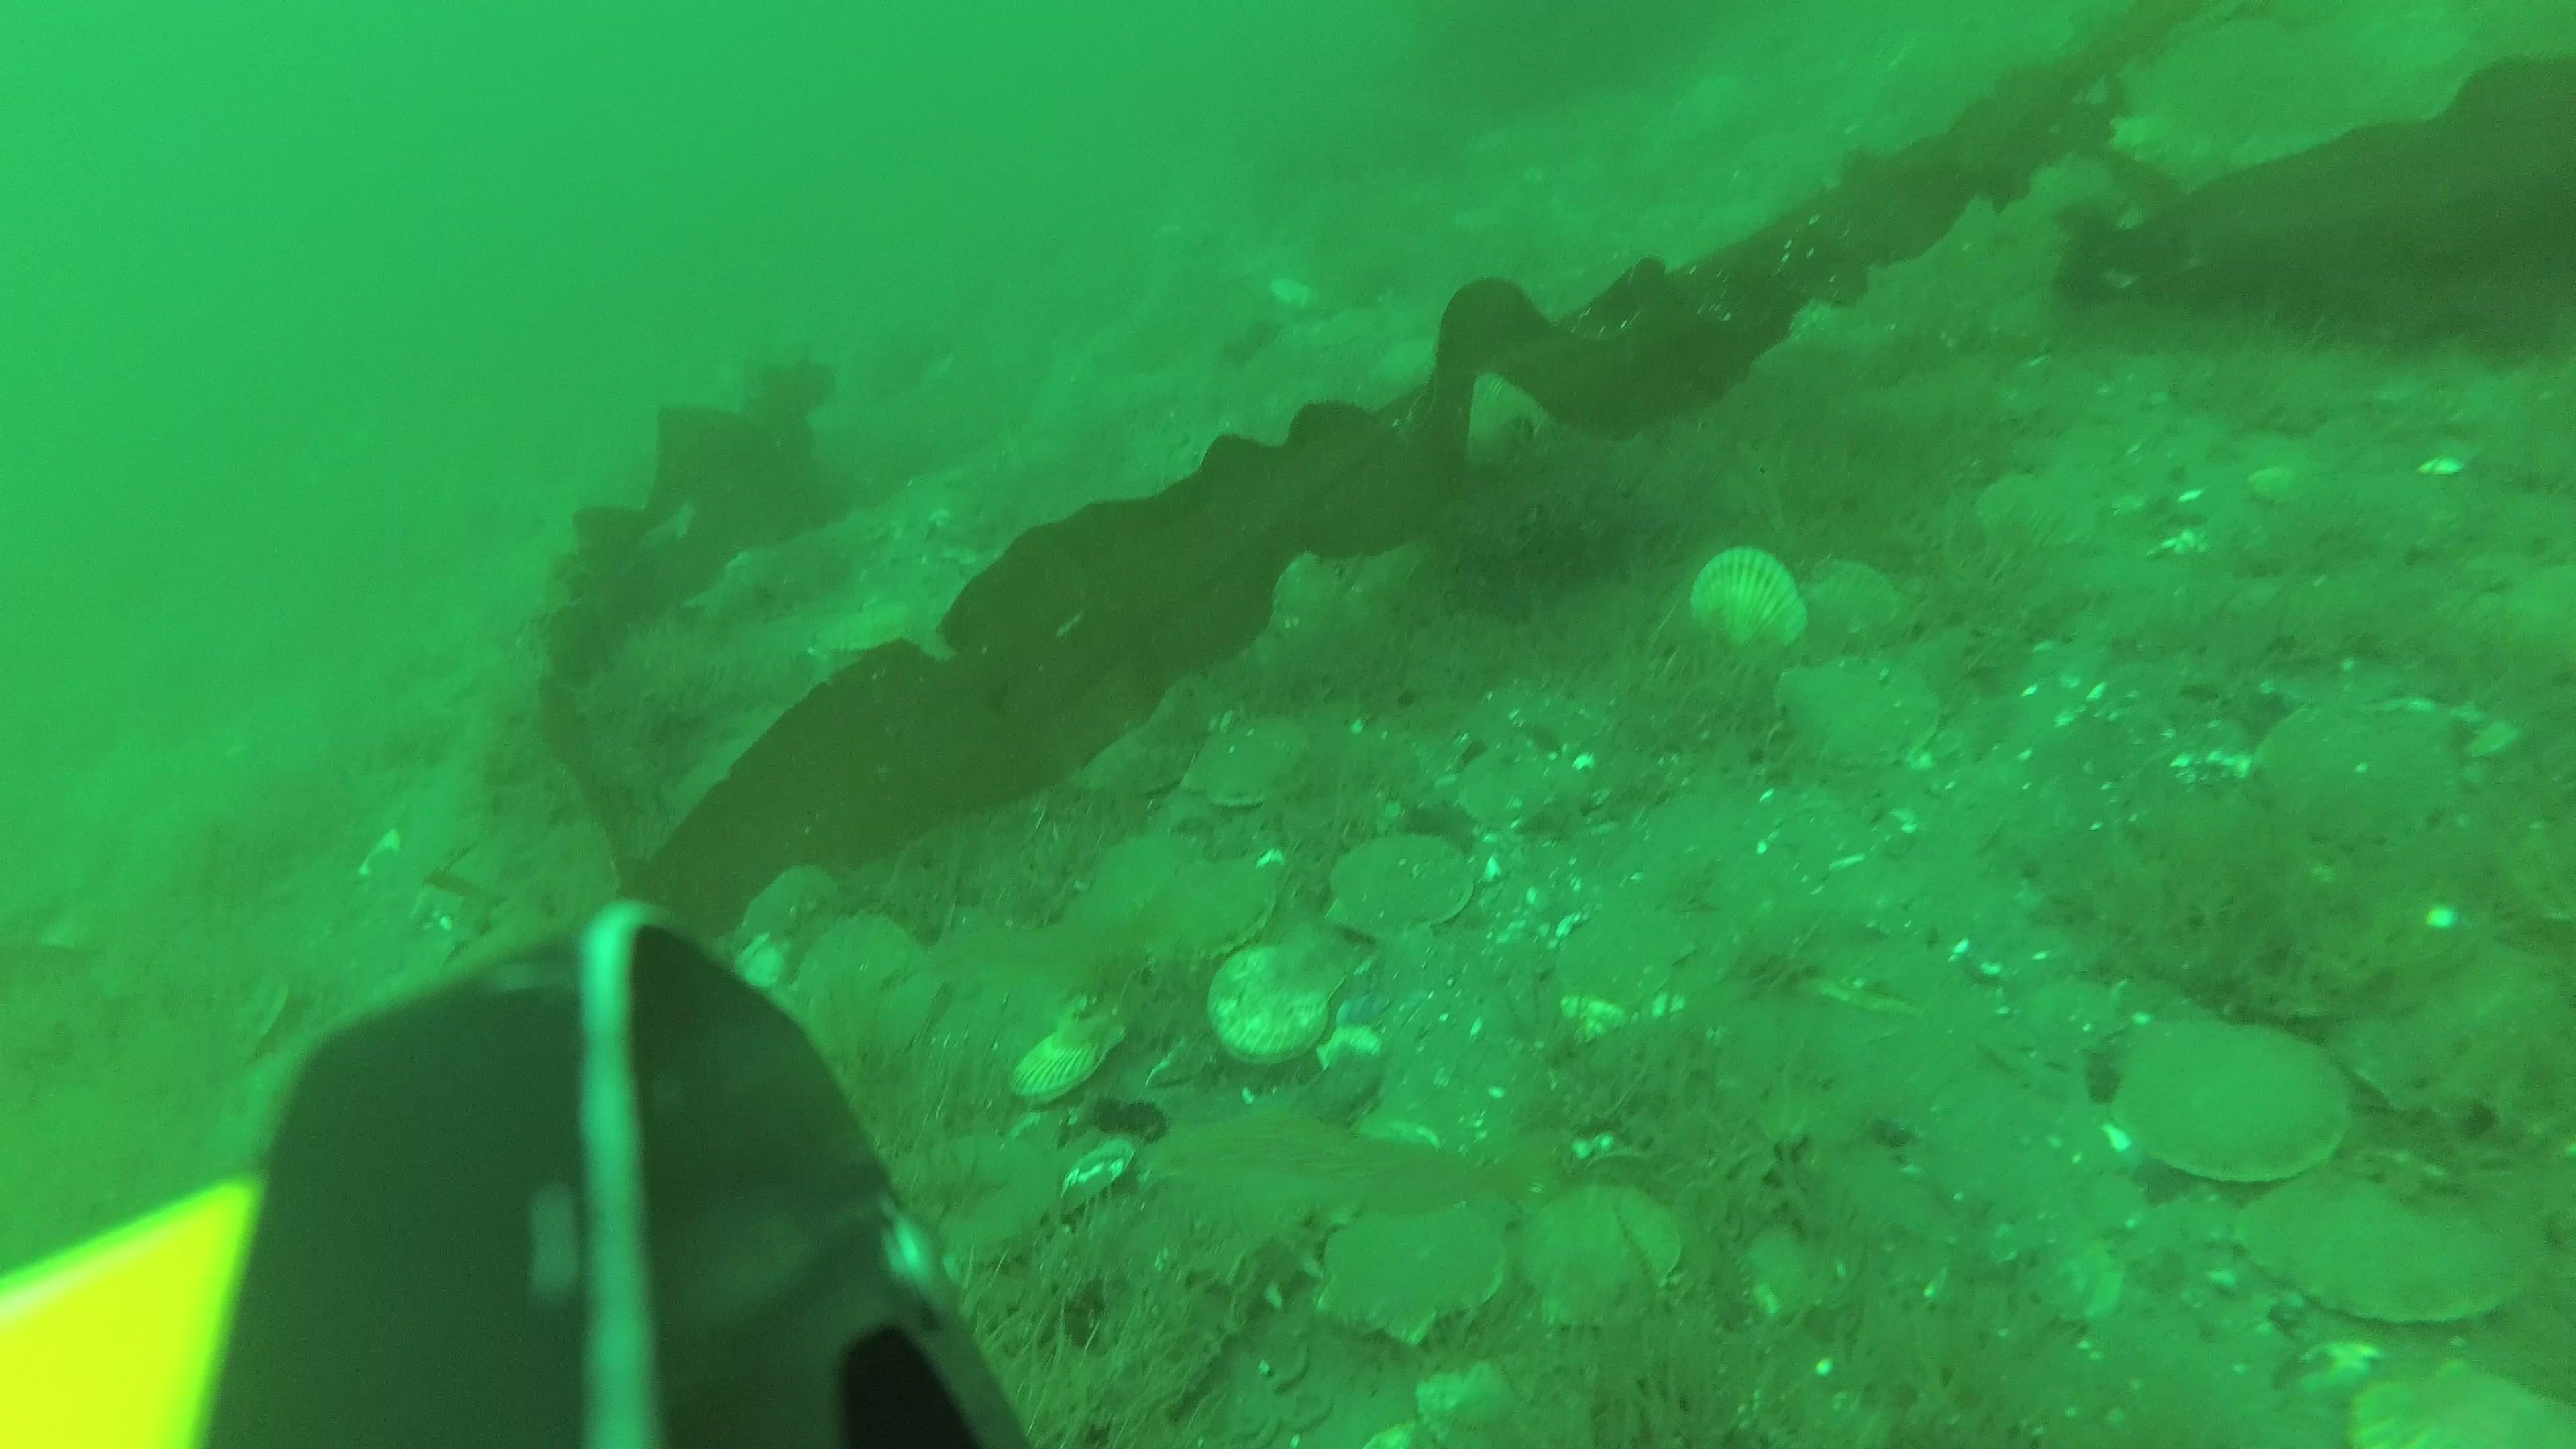scallop: (2247, 1157, 2526, 1343), (2112, 1014, 2341, 1187), (2263, 686, 2443, 856), (1339, 1201, 1522, 1343), (1530, 1185, 1667, 1338), (801, 924, 945, 1063), (913, 1132, 1056, 1263), (1320, 832, 1474, 952), (1787, 651, 1934, 763), (1215, 943, 1343, 1070), (1146, 849, 1277, 971), (1976, 460, 2097, 566), (1453, 734, 1568, 842), (1690, 550, 1815, 648), (1014, 996, 1123, 1104), (1191, 713, 1306, 816), (1799, 554, 1904, 653)
